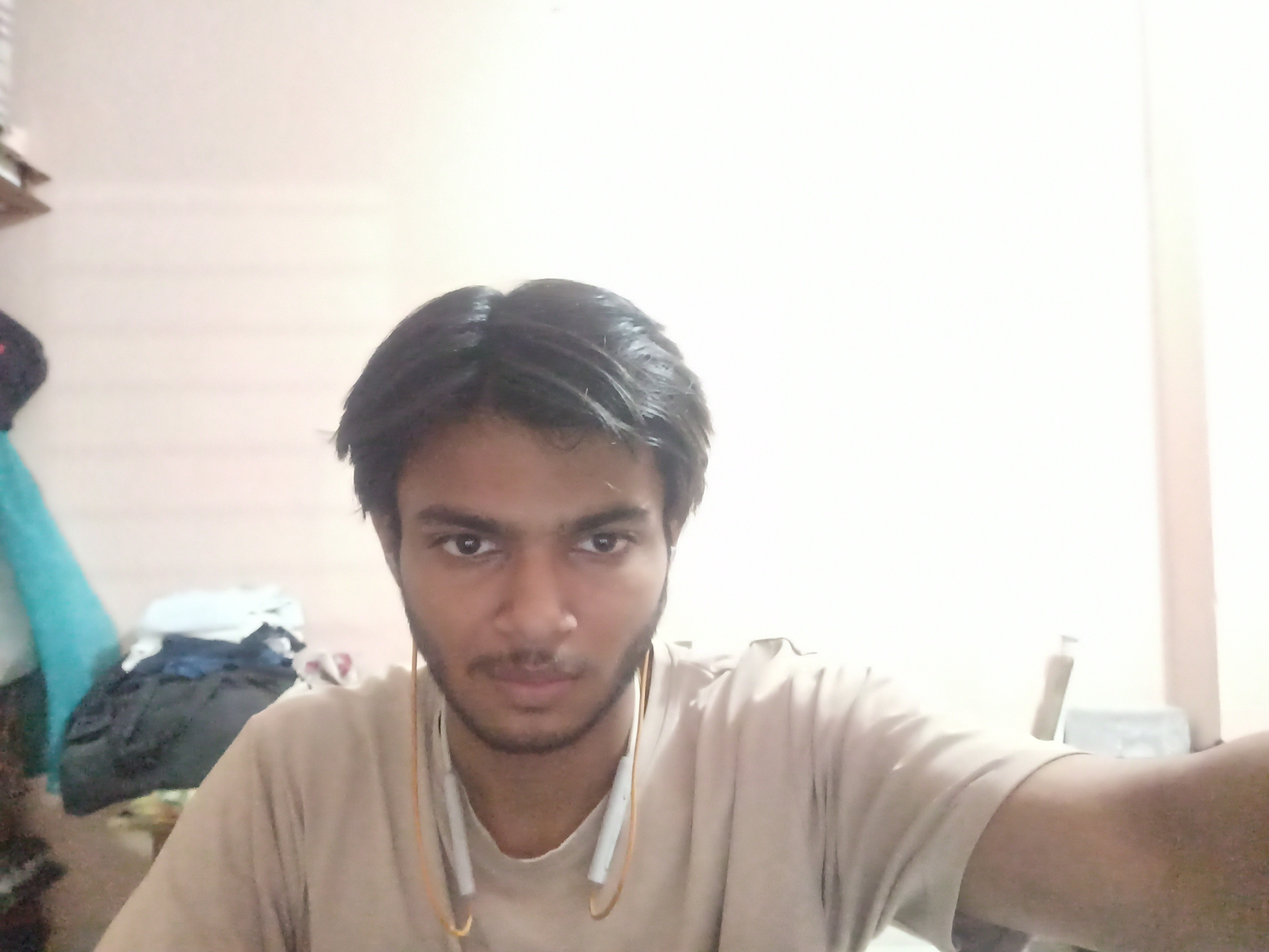Focused: (240, 251, 775, 799)
